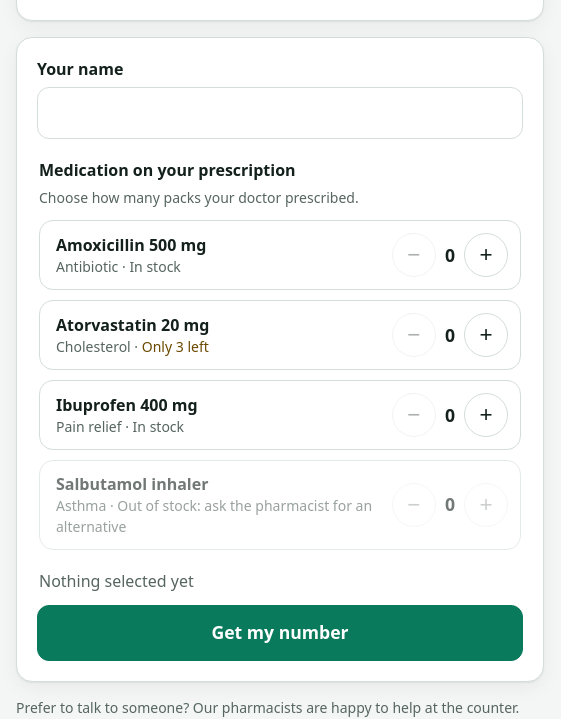
stock that changes while the patient is choosing › keeps what the patient chose, but never more than the shelf holds now
(page scrolled)
Expected: the text "Amoxicillin 500 mg" is shown, top-left (56, 234), bottom-right (206, 256)
Click the button "+" in the row of "Atorvastatin 20 mg" at coordinates (486, 335), box top-left (464, 313), bottom-right (508, 357)
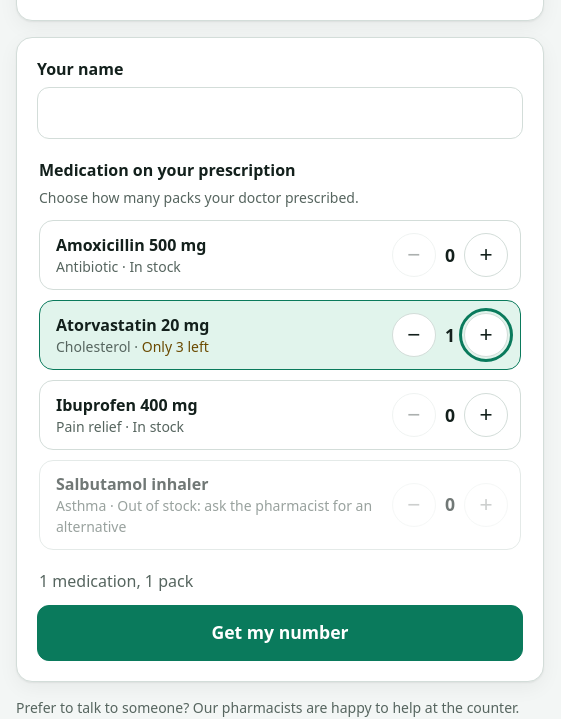
Click the button "+" in the row of "Atorvastatin 20 mg" at coordinates (486, 335), box top-left (464, 313), bottom-right (508, 357)
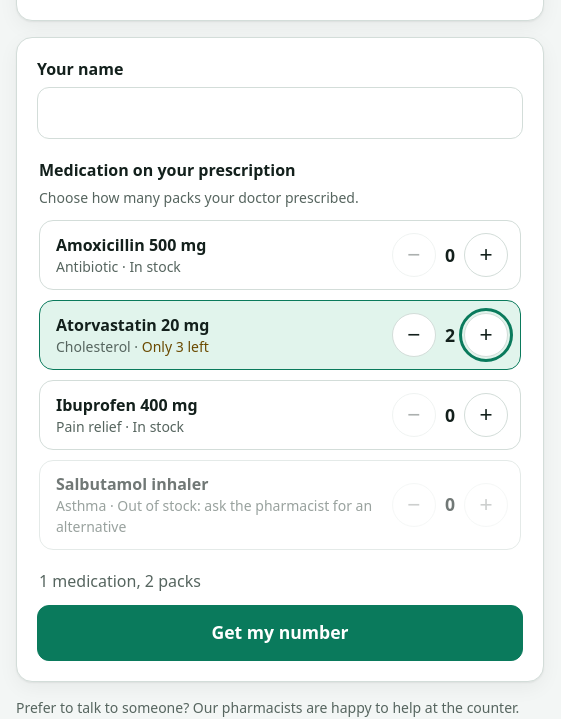
Click the button "+" in the row of "Atorvastatin 20 mg" at coordinates (486, 335), box top-left (464, 313), bottom-right (508, 357)
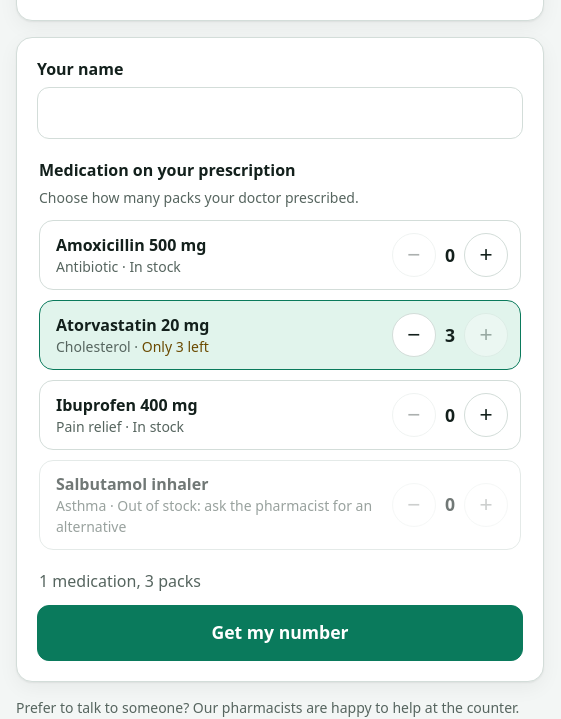
Click the button "+" in the row of "Ibuprofen 400 mg" at coordinates (486, 415), box top-left (464, 393), bottom-right (508, 437)
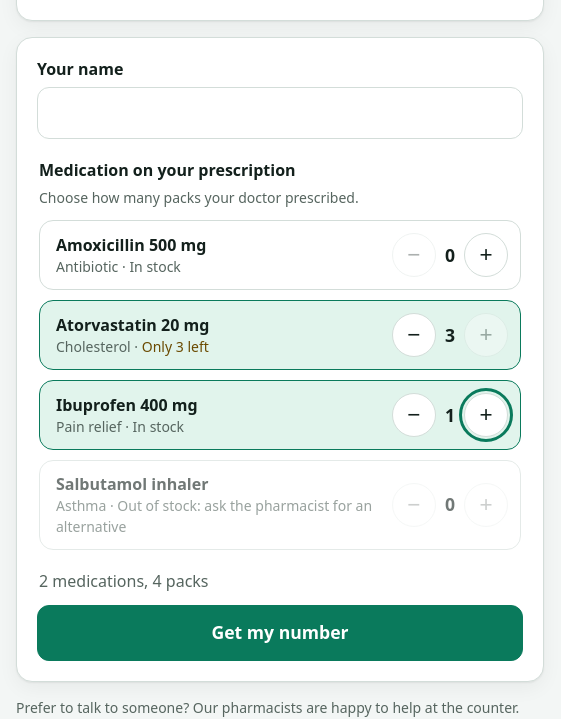
Click the button "+" in the row of "Ibuprofen 400 mg" at coordinates (486, 415), box top-left (464, 393), bottom-right (508, 437)
Wait 7300 ms
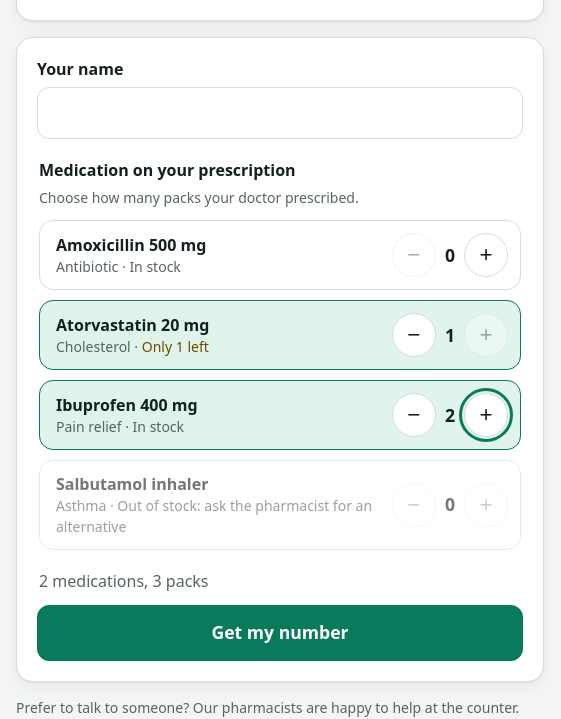
Expected: the text "2 medications, 3 packs" is shown, top-left (39, 570), bottom-right (208, 592)
Expected: the text "Only 1 left" is shown, top-left (142, 337), bottom-right (209, 356)
